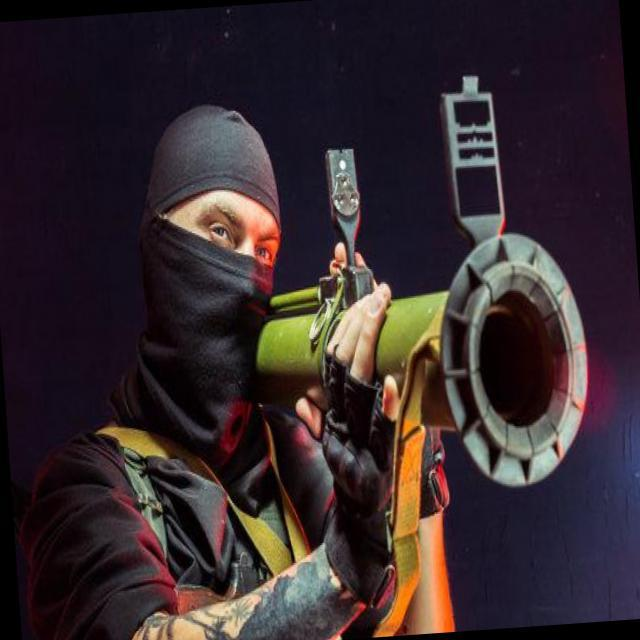rocket: (272, 67, 594, 497)
